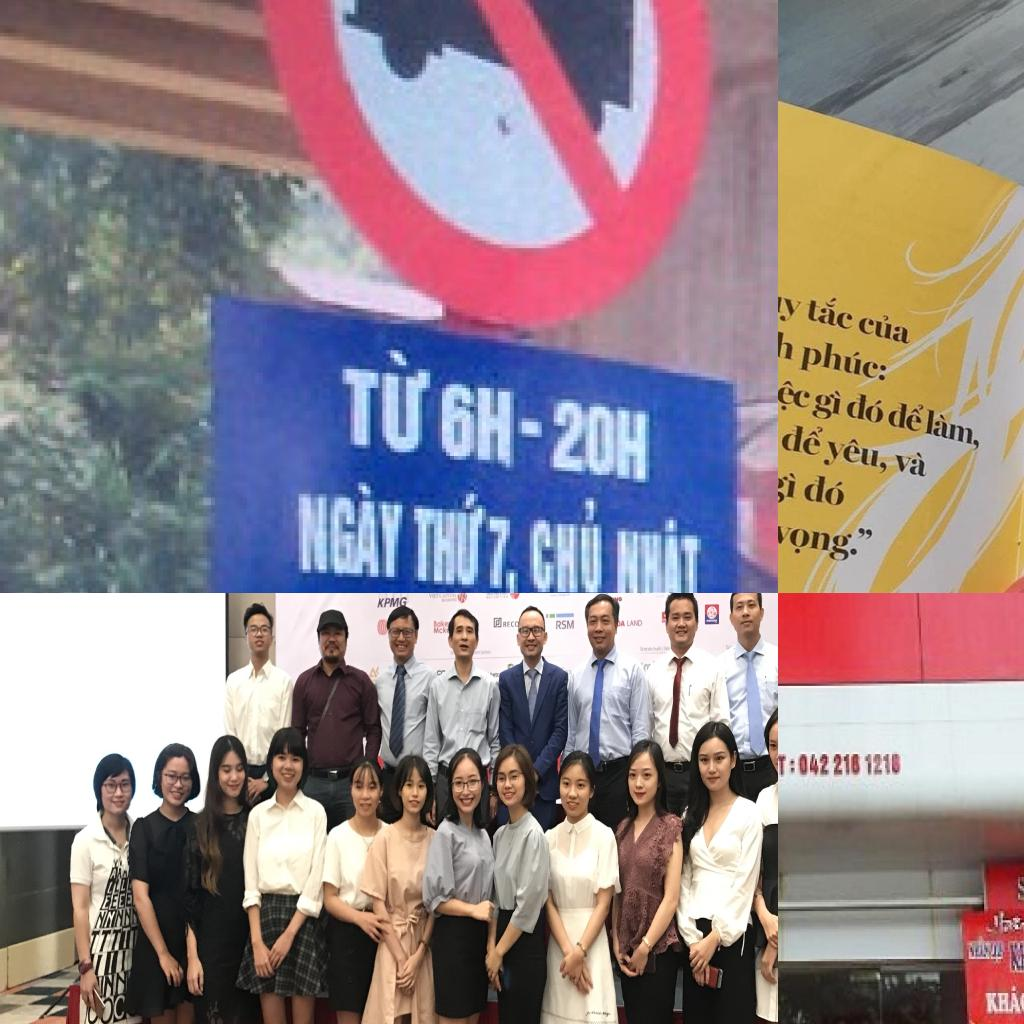text: (295, 471, 414, 585), (339, 342, 438, 464), (550, 400, 653, 486), (525, 493, 609, 593), (414, 486, 494, 588), (613, 512, 709, 593), (442, 380, 522, 475), (792, 332, 892, 388), (778, 522, 879, 567), (478, 513, 526, 593), (820, 430, 891, 478), (796, 750, 904, 779), (922, 404, 983, 455), (852, 306, 916, 350), (796, 296, 861, 334), (799, 469, 851, 512), (778, 267, 809, 327), (843, 388, 889, 428), (778, 421, 826, 458), (982, 984, 1024, 1024), (884, 397, 928, 435), (778, 369, 814, 415), (808, 388, 846, 424), (778, 311, 800, 370), (984, 908, 1024, 938), (893, 450, 930, 482), (778, 470, 802, 509), (1006, 941, 1024, 975), (778, 749, 798, 779), (377, 596, 408, 609), (1012, 872, 1024, 904), (100, 996, 113, 1024), (114, 971, 128, 996), (114, 994, 126, 1023), (98, 929, 112, 953), (111, 928, 122, 950), (90, 930, 100, 954), (104, 974, 114, 998), (94, 911, 107, 929), (94, 954, 104, 977), (104, 910, 116, 928), (122, 926, 131, 950), (113, 910, 124, 927), (556, 620, 574, 630), (107, 952, 115, 974), (428, 593, 457, 599), (102, 895, 112, 910), (124, 908, 132, 926), (132, 926, 138, 947), (110, 894, 118, 909), (118, 893, 126, 908), (132, 908, 139, 925), (503, 621, 519, 628), (120, 878, 127, 894), (121, 950, 126, 972), (106, 881, 114, 894), (434, 620, 448, 627), (433, 627, 447, 634), (627, 620, 643, 626), (115, 867, 123, 879), (109, 868, 117, 880), (126, 892, 132, 908), (114, 880, 120, 894), (437, 669, 447, 677), (652, 646, 663, 653), (485, 593, 509, 595), (614, 596, 622, 602), (492, 672, 500, 678), (114, 859, 119, 868), (620, 620, 626, 627), (647, 646, 653, 652), (664, 646, 670, 652), (640, 646, 644, 652), (644, 647, 648, 653)
